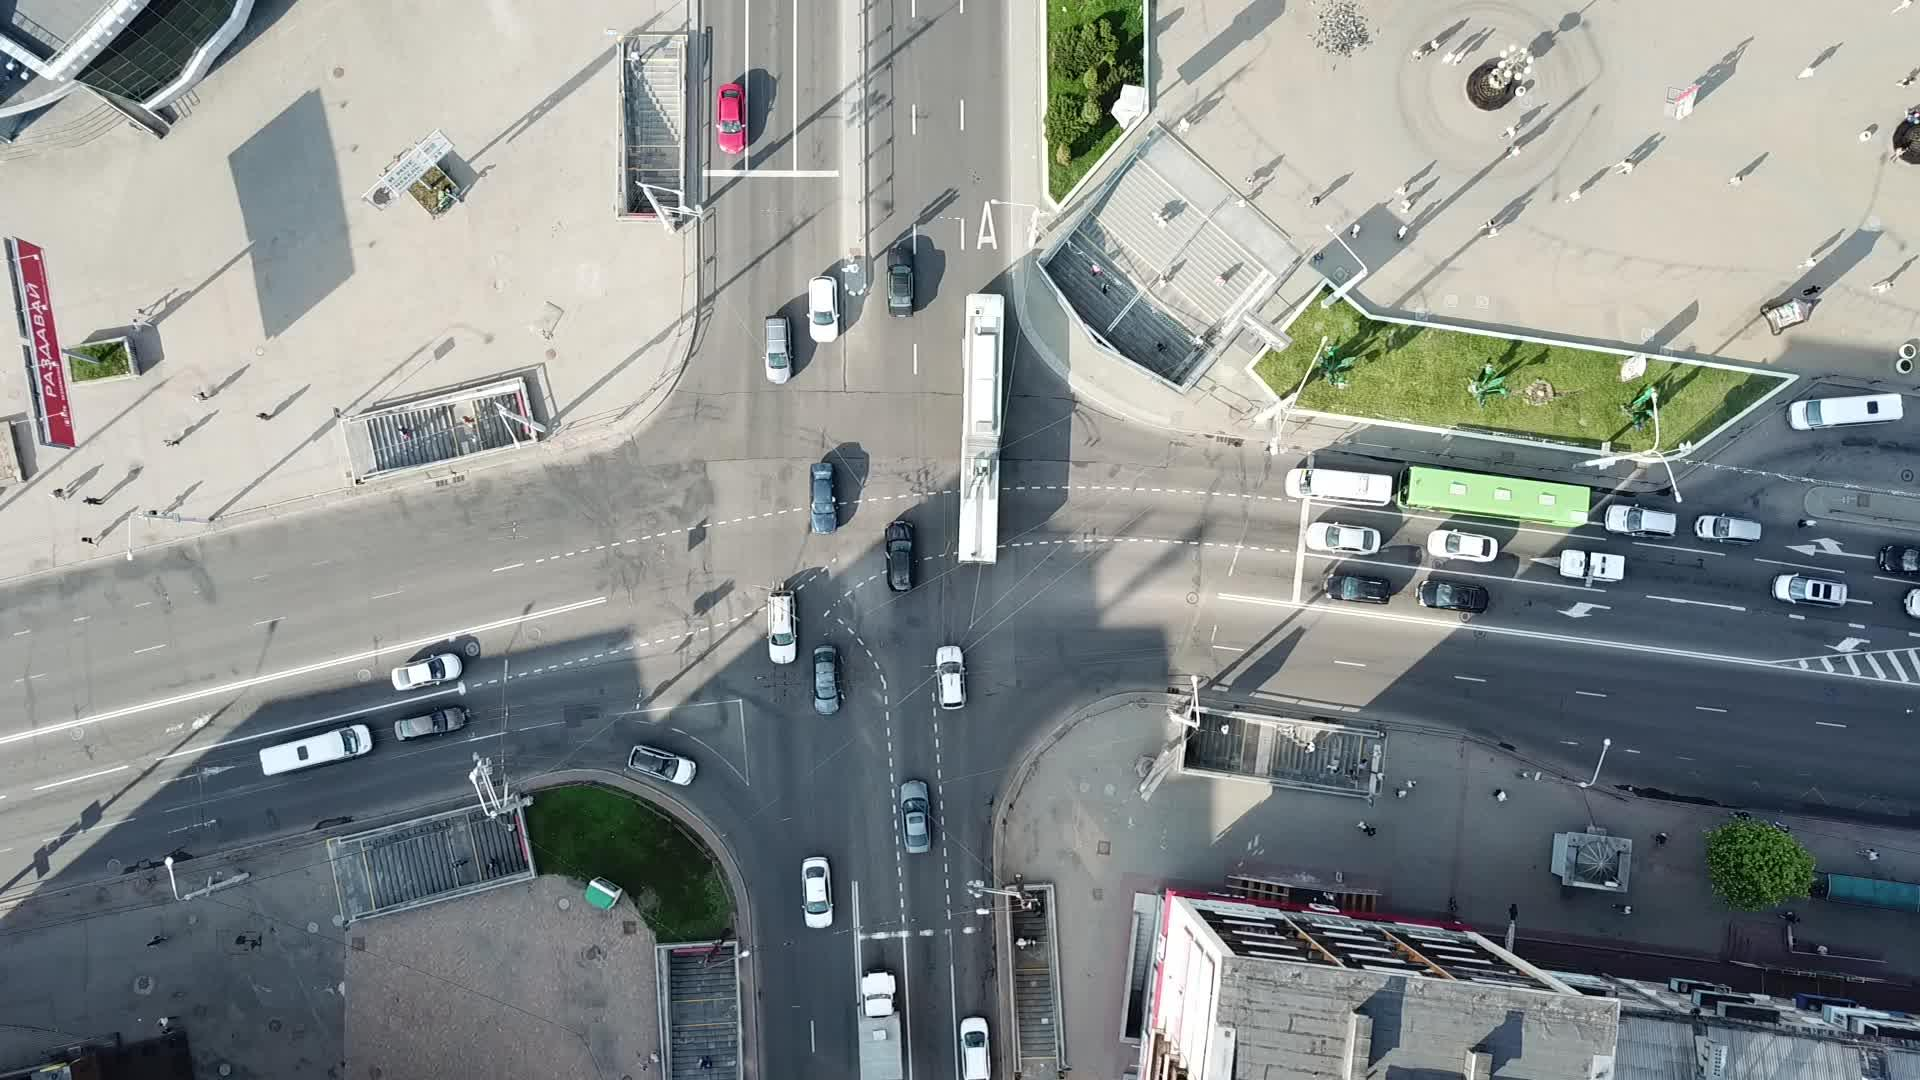car: (626, 742, 698, 787), (392, 651, 463, 692), (810, 641, 847, 717), (1604, 502, 1677, 539), (1305, 520, 1382, 555), (393, 705, 465, 742), (898, 779, 934, 855), (766, 588, 800, 666), (1416, 579, 1490, 615), (1771, 572, 1847, 607), (1427, 527, 1499, 563), (713, 80, 748, 154), (800, 855, 835, 928), (934, 644, 969, 712), (884, 520, 916, 593), (807, 276, 840, 345), (1323, 572, 1393, 605), (1695, 513, 1762, 546), (886, 245, 916, 318), (1560, 549, 1625, 582), (764, 315, 793, 386), (810, 462, 837, 535), (957, 1015, 989, 1077)
